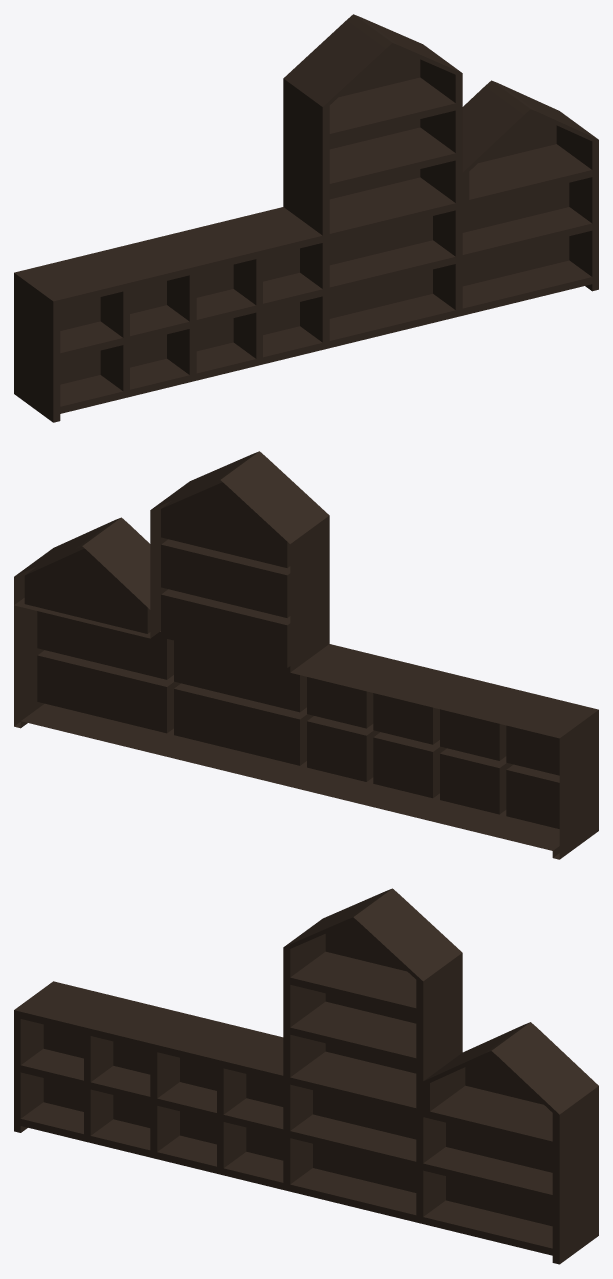
The model's file is MSH_Casita.FBX.
The picture shows the model from 3 angles, top to bottom: view 1: azimuth 30°, elevation 25°; view 2: azimuth 150°, elevation 25°; view 3: azimuth 330°, elevation 25°; orthographic projection.
Parts seen in each view (by area): view 1: MSH_Casita; view 2: MSH_Casita; view 3: MSH_Casita.
Boxes of the visible parts, x1=… form: MSH_Casita: x1=14, y1=14, x2=598, y2=422; MSH_Casita: x1=14, y1=451, x2=598, y2=859; MSH_Casita: x1=14, y1=888, x2=598, y2=1264.
Bounding box in the file's own units: 400 × 208 × 50.
